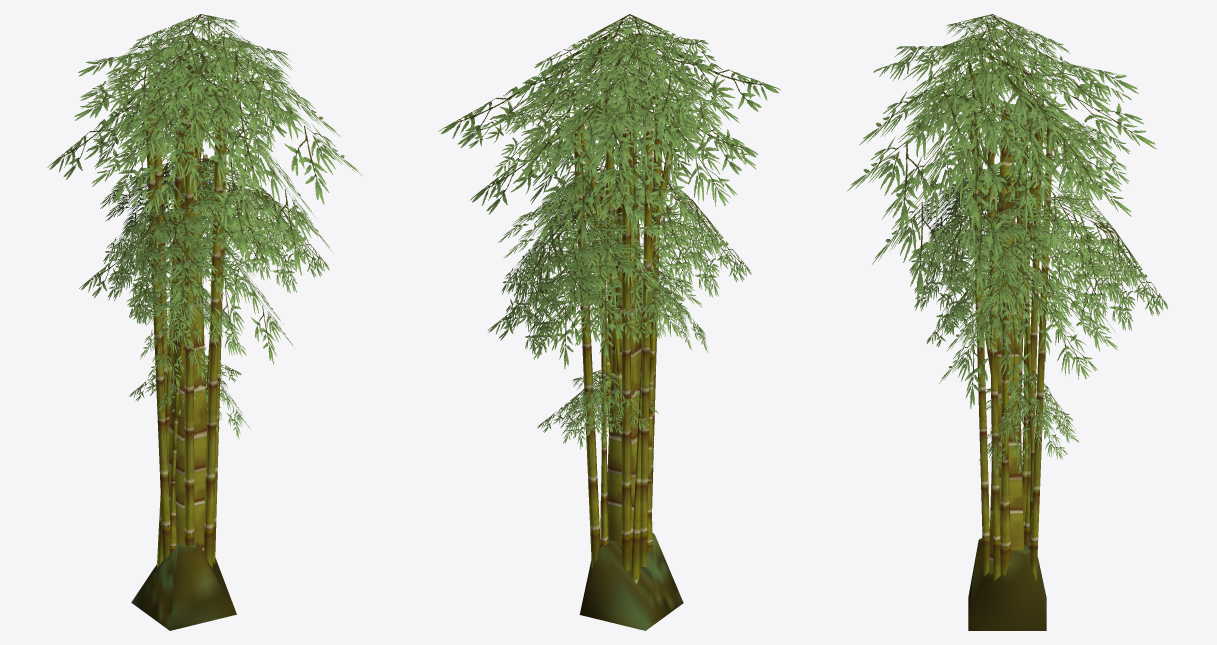
File: bamboo_2.glb
3 views of the same model, side by side, from view 1: azimuth 30°, elevation 25°; view 2: azimuth 150°, elevation 25°; view 3: azimuth 270°, elevation 25° (orthographic). The views are drawn at different scales.
Visible parts, largest first — view 1: bamboo_2; view 2: bamboo_2; view 3: bamboo_2.
Part boxes in pixels (<box>): bamboo_2: <box>47,14,362,630</box>; bamboo_2: <box>438,14,780,630</box>; bamboo_2: <box>847,14,1168,630</box>.
Bounding box in the file's own units: 11.75 × 22.25 × 12.51.
Materials: 1 (1 with a texture image).
